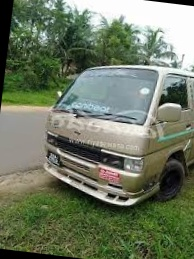van: (36, 52, 194, 220)
